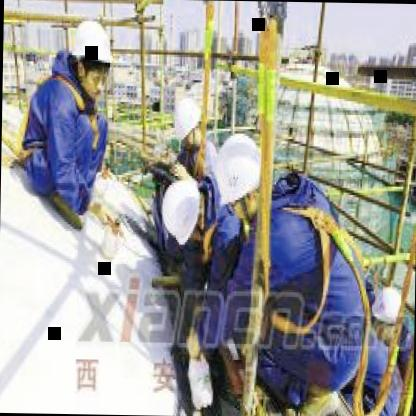helmet: (218, 126, 264, 225), (69, 18, 115, 101), (157, 180, 210, 246), (370, 280, 402, 340), (172, 96, 200, 152)
